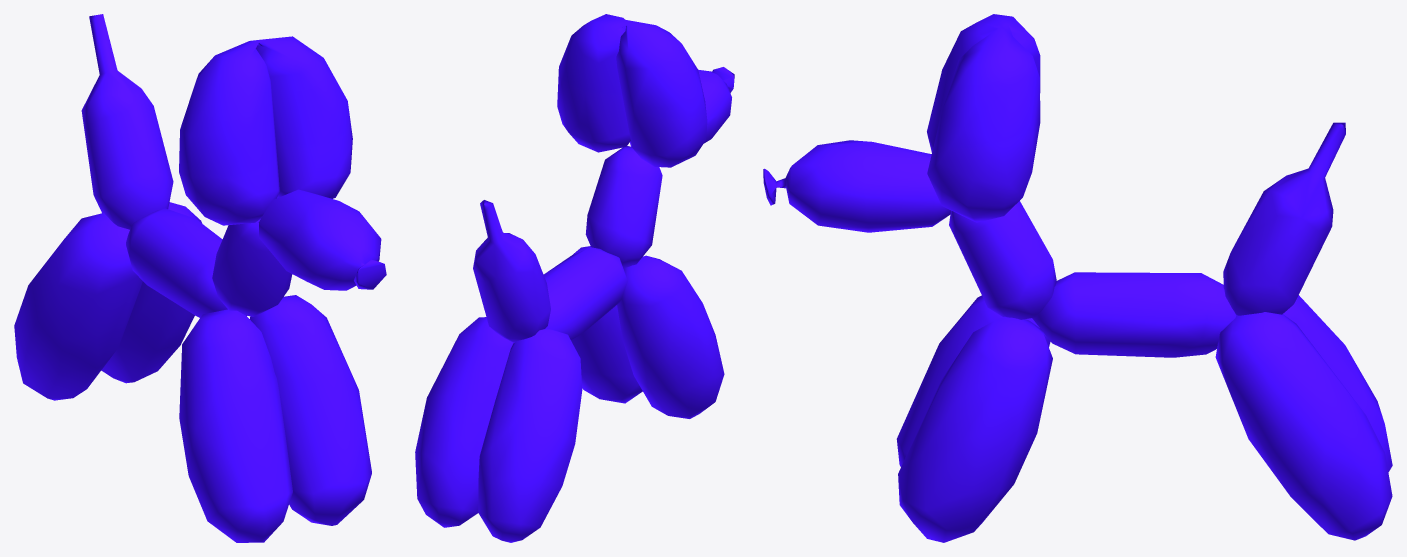
The picture shows the model from 3 angles, left to right: view 1: azimuth 30°, elevation 25°; view 2: azimuth 150°, elevation 25°; view 3: azimuth 270°, elevation 25°; orthographic projection. The views are drawn at different scales.
Visible parts, largest first — view 1: BalloonAnimalShortBlue; view 2: BalloonAnimalShortBlue; view 3: BalloonAnimalShortBlue.
Boxes of the visible parts, left/top/right/bottom form: BalloonAnimalShortBlue: left=14, top=14, right=386, bottom=542; BalloonAnimalShortBlue: left=415, top=14, right=734, bottom=542; BalloonAnimalShortBlue: left=763, top=14, right=1392, bottom=542.
Size of what is drawn, in the model's own units: 0.2112 by 0.561 by 0.6487.
1 material, 1 textured.
